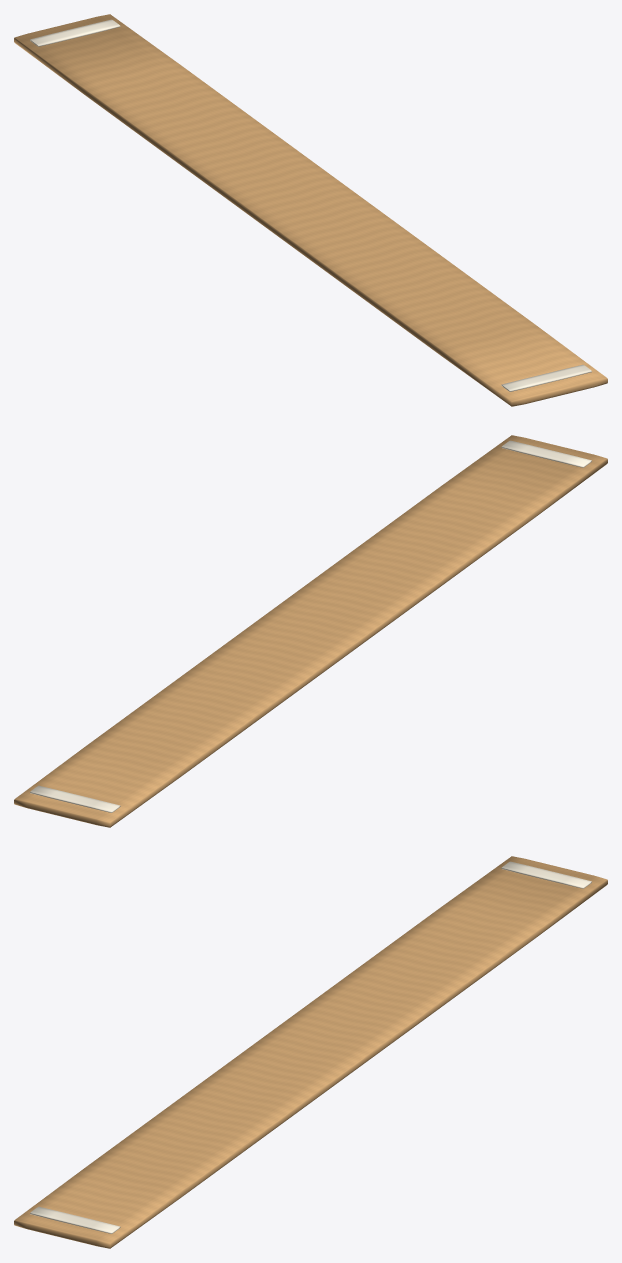
Rendered from ramp_rolling.glb.
3 renders of one model, top to bottom at view 1: azimuth 30°, elevation 25°; view 2: azimuth 150°, elevation 25°; view 3: azimuth 330°, elevation 25°, orthographic.
Parts seen in each view (by area): view 1: RampRolling; view 2: RampRolling; view 3: RampRolling.
Boxes of the visible parts, x1,y1,x2,y2 form: RampRolling: [14, 14, 607, 406]; RampRolling: [14, 435, 607, 827]; RampRolling: [14, 856, 607, 1248].
Size of what is drawn, in the model's own units: 0.25 by 0.024 by 2.2.
2 materials, 2 textured.
